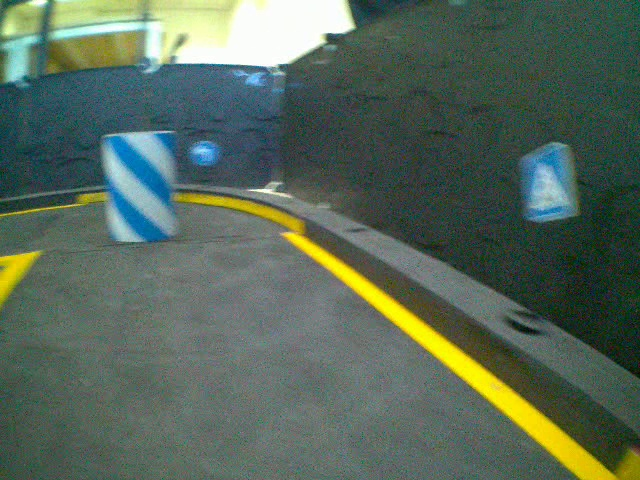bucket: (100, 130, 183, 247)
